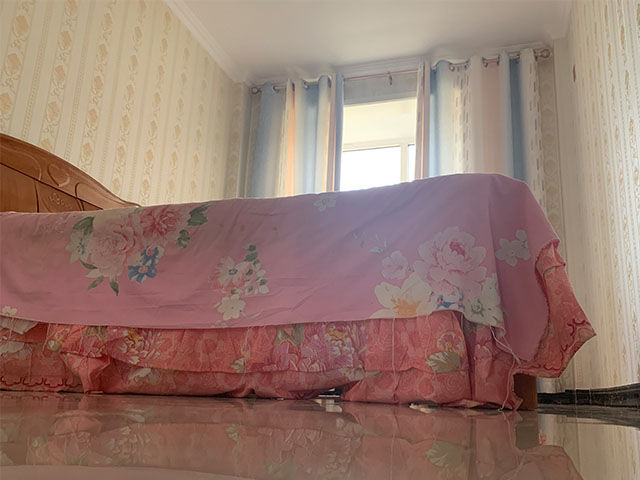bed: (1, 133, 598, 412)
curtain: (411, 38, 548, 178), (241, 76, 341, 196)
